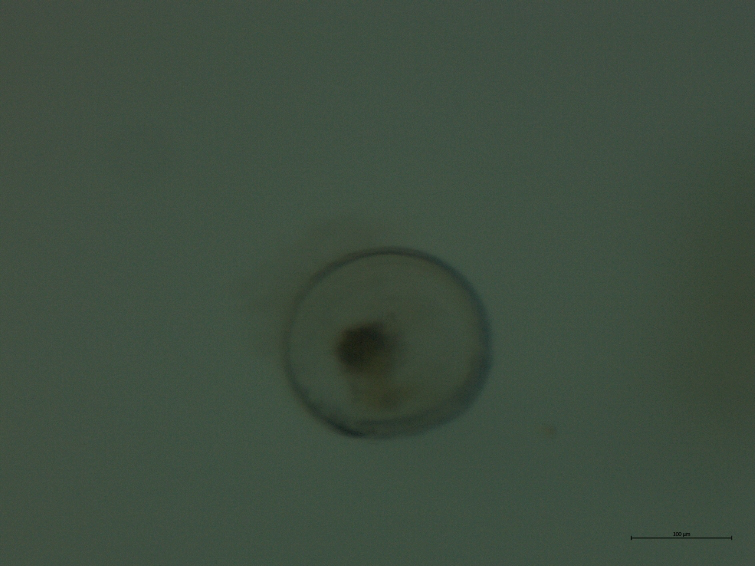oyster: (270, 238, 499, 452)
